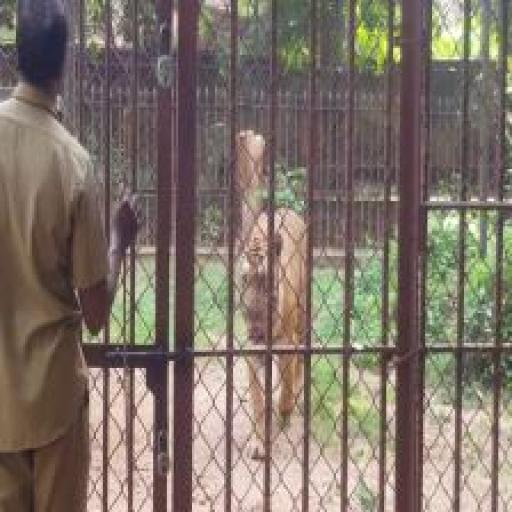Tiger: (226, 210, 324, 471)
